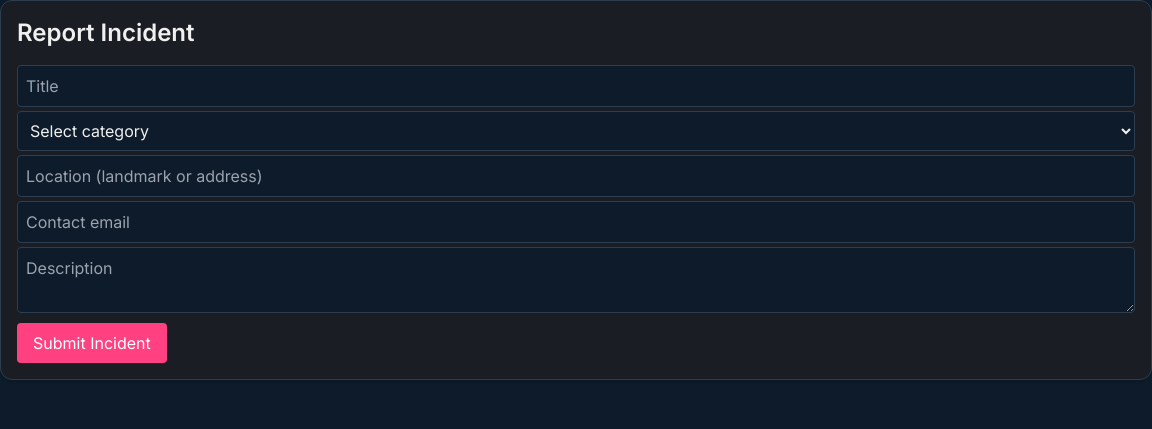
IncidentForm › shows general error from a 422 single detail object
Type "Valid Title" into the field with placeholder "Title" at (576, 86), box top-left (17, 65), bottom-right (1135, 107)
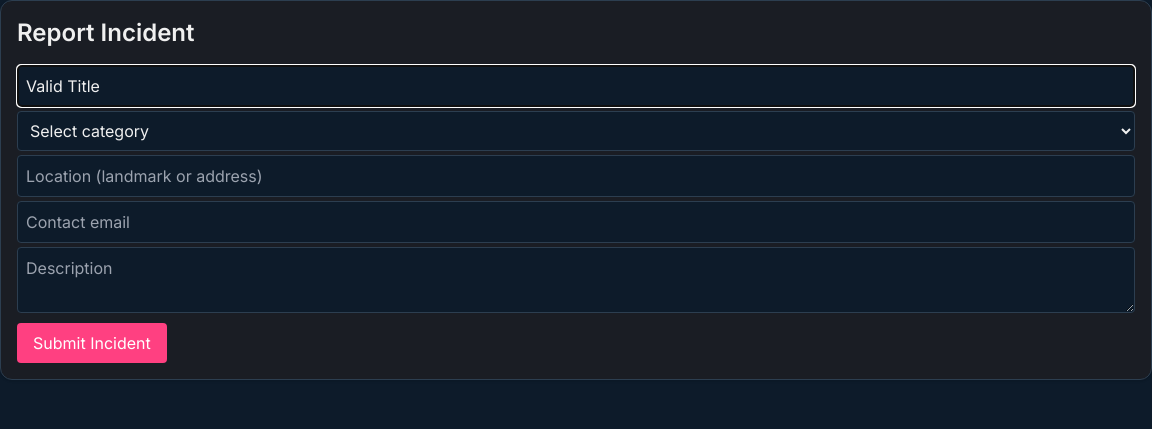
Select "road maintenance" in the dropdown named "category" at (576, 131), box top-left (17, 111), bottom-right (1135, 151)
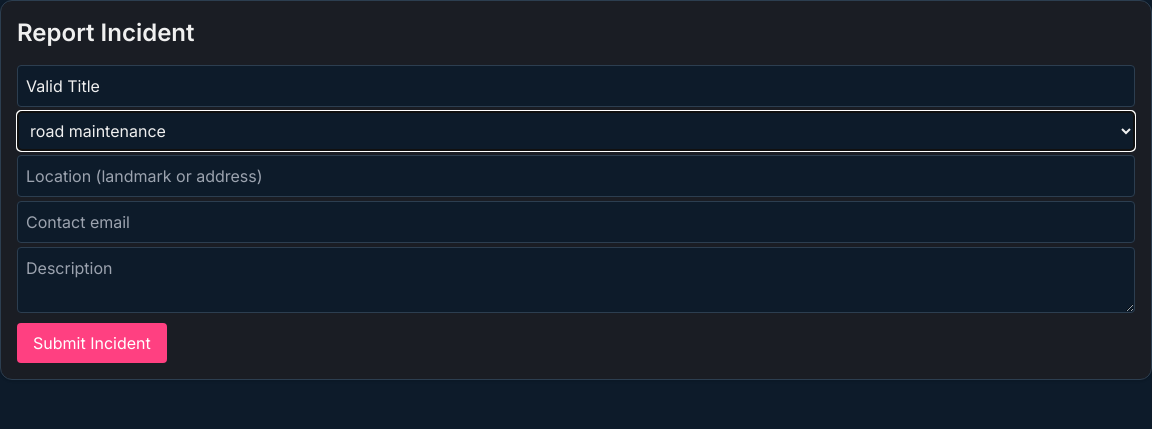
Type "Valid description" into the text box with placeholder "Description" at (576, 280), box top-left (17, 247), bottom-right (1135, 313)
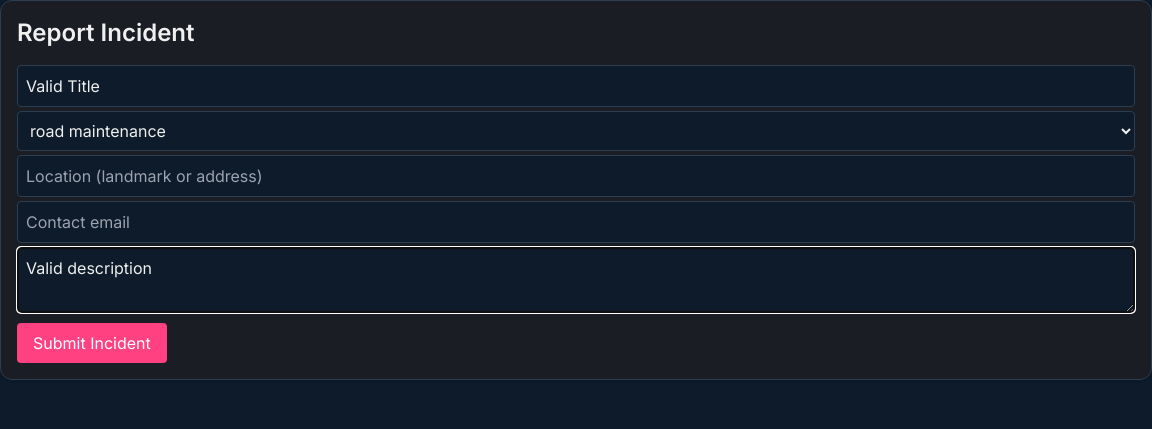
Click the button "Submit Incident" at (92, 343), box top-left (17, 323), bottom-right (167, 363)
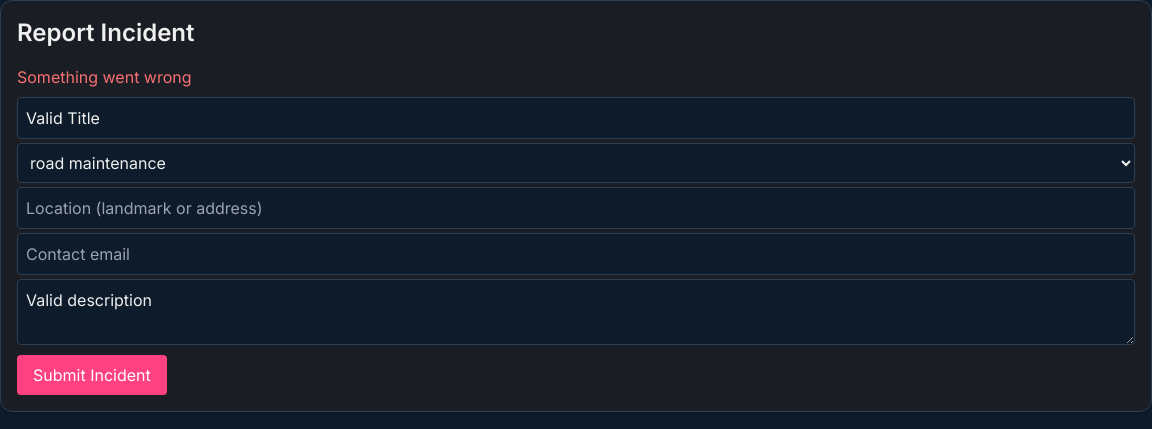
Result: the text "Something went wrong" is shown at top-left (17, 67), bottom-right (192, 87)
